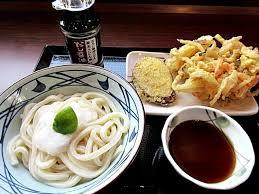bukkake: (1, 69, 134, 192)
kakiage: (173, 38, 259, 103)
satumaimo: (134, 56, 174, 103)
